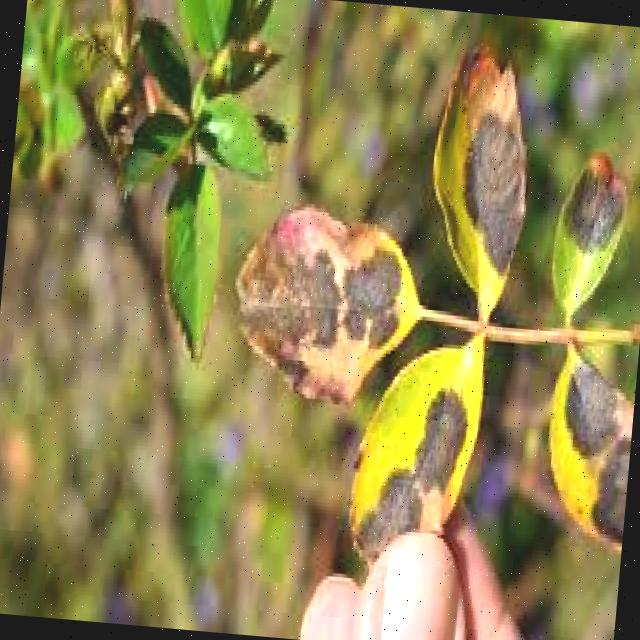leaf spot: (224, 190, 414, 418), (410, 35, 545, 320), (528, 348, 638, 562), (541, 143, 639, 324)
